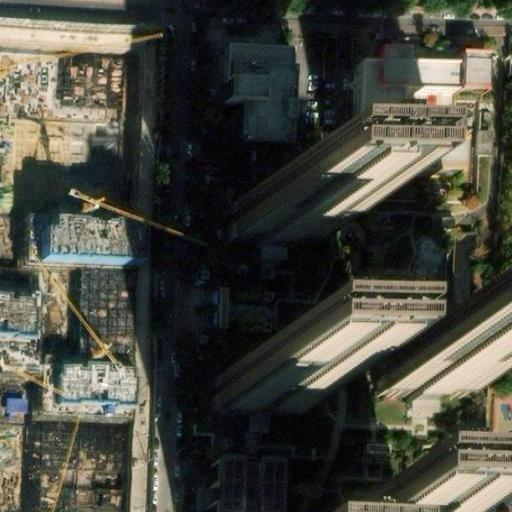building: (213, 240, 295, 376), (358, 50, 480, 123), (209, 415, 292, 512), (226, 42, 298, 140), (217, 139, 297, 203), (212, 375, 304, 423), (381, 353, 474, 400), (41, 221, 134, 266), (216, 201, 313, 243), (56, 362, 131, 406), (64, 62, 125, 107), (2, 392, 27, 413), (485, 493, 512, 512)
